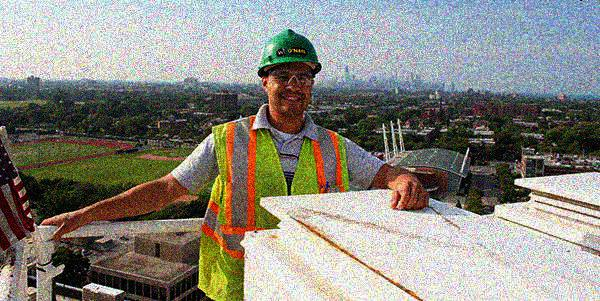helmet: (255, 28, 325, 116)
